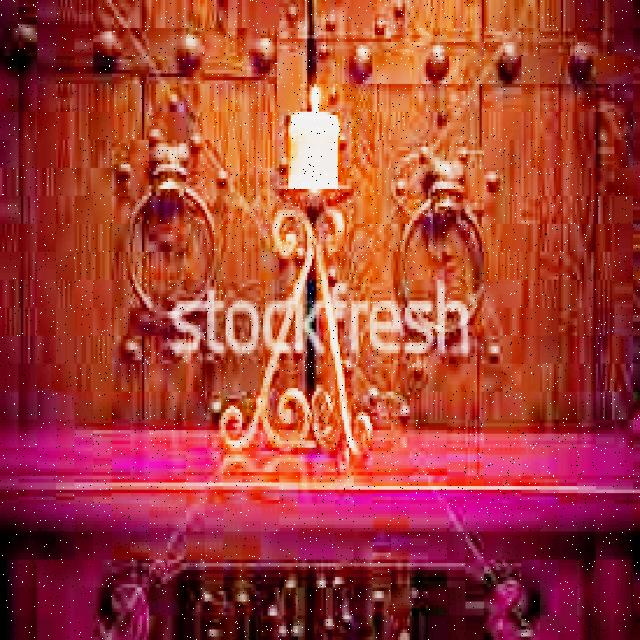api: (306, 71, 322, 117)
